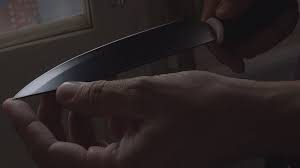knife: (10, 1, 288, 104)
